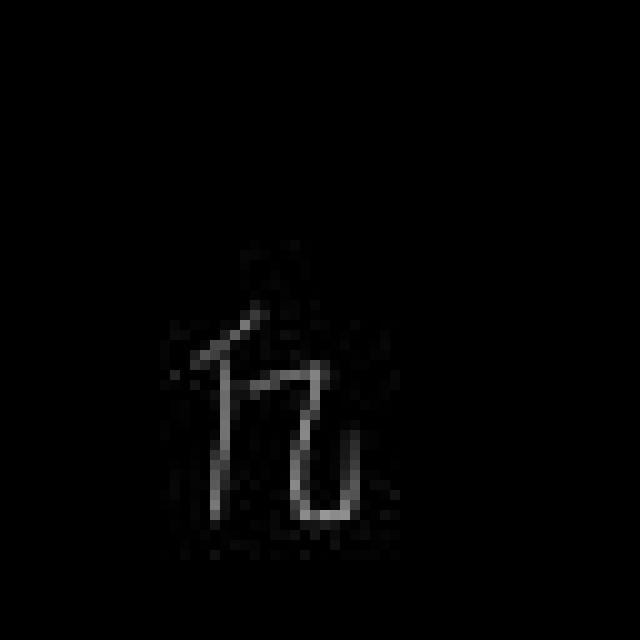100000 -a hundred thousand-: (188, 292, 377, 540)
